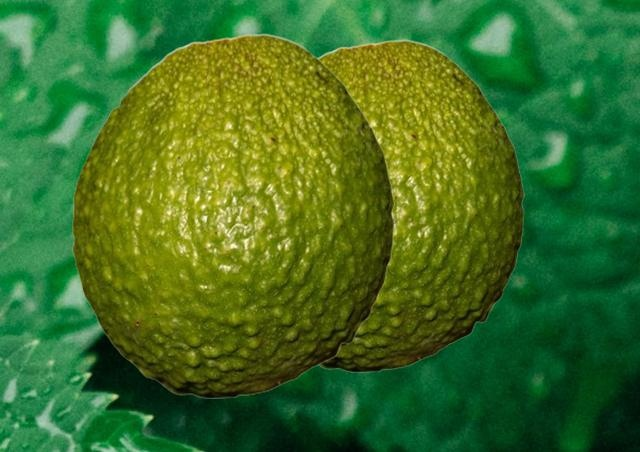avocado: (71, 33, 393, 397), (318, 39, 523, 371)
